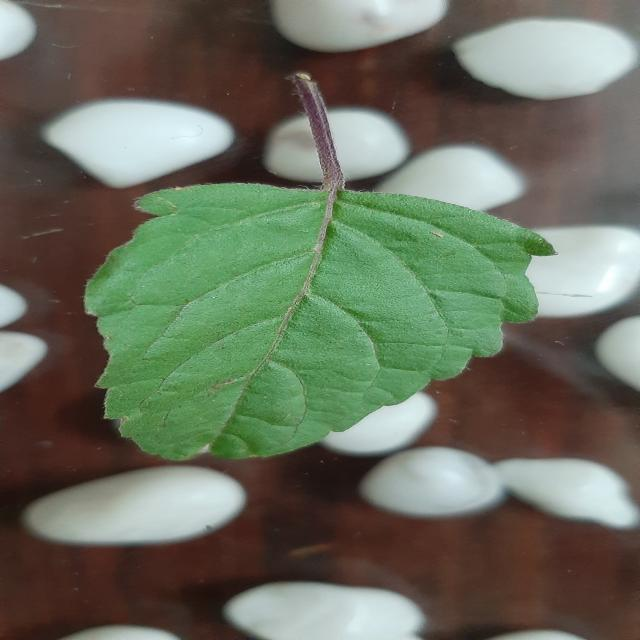tulsi: (84, 184, 553, 460)
